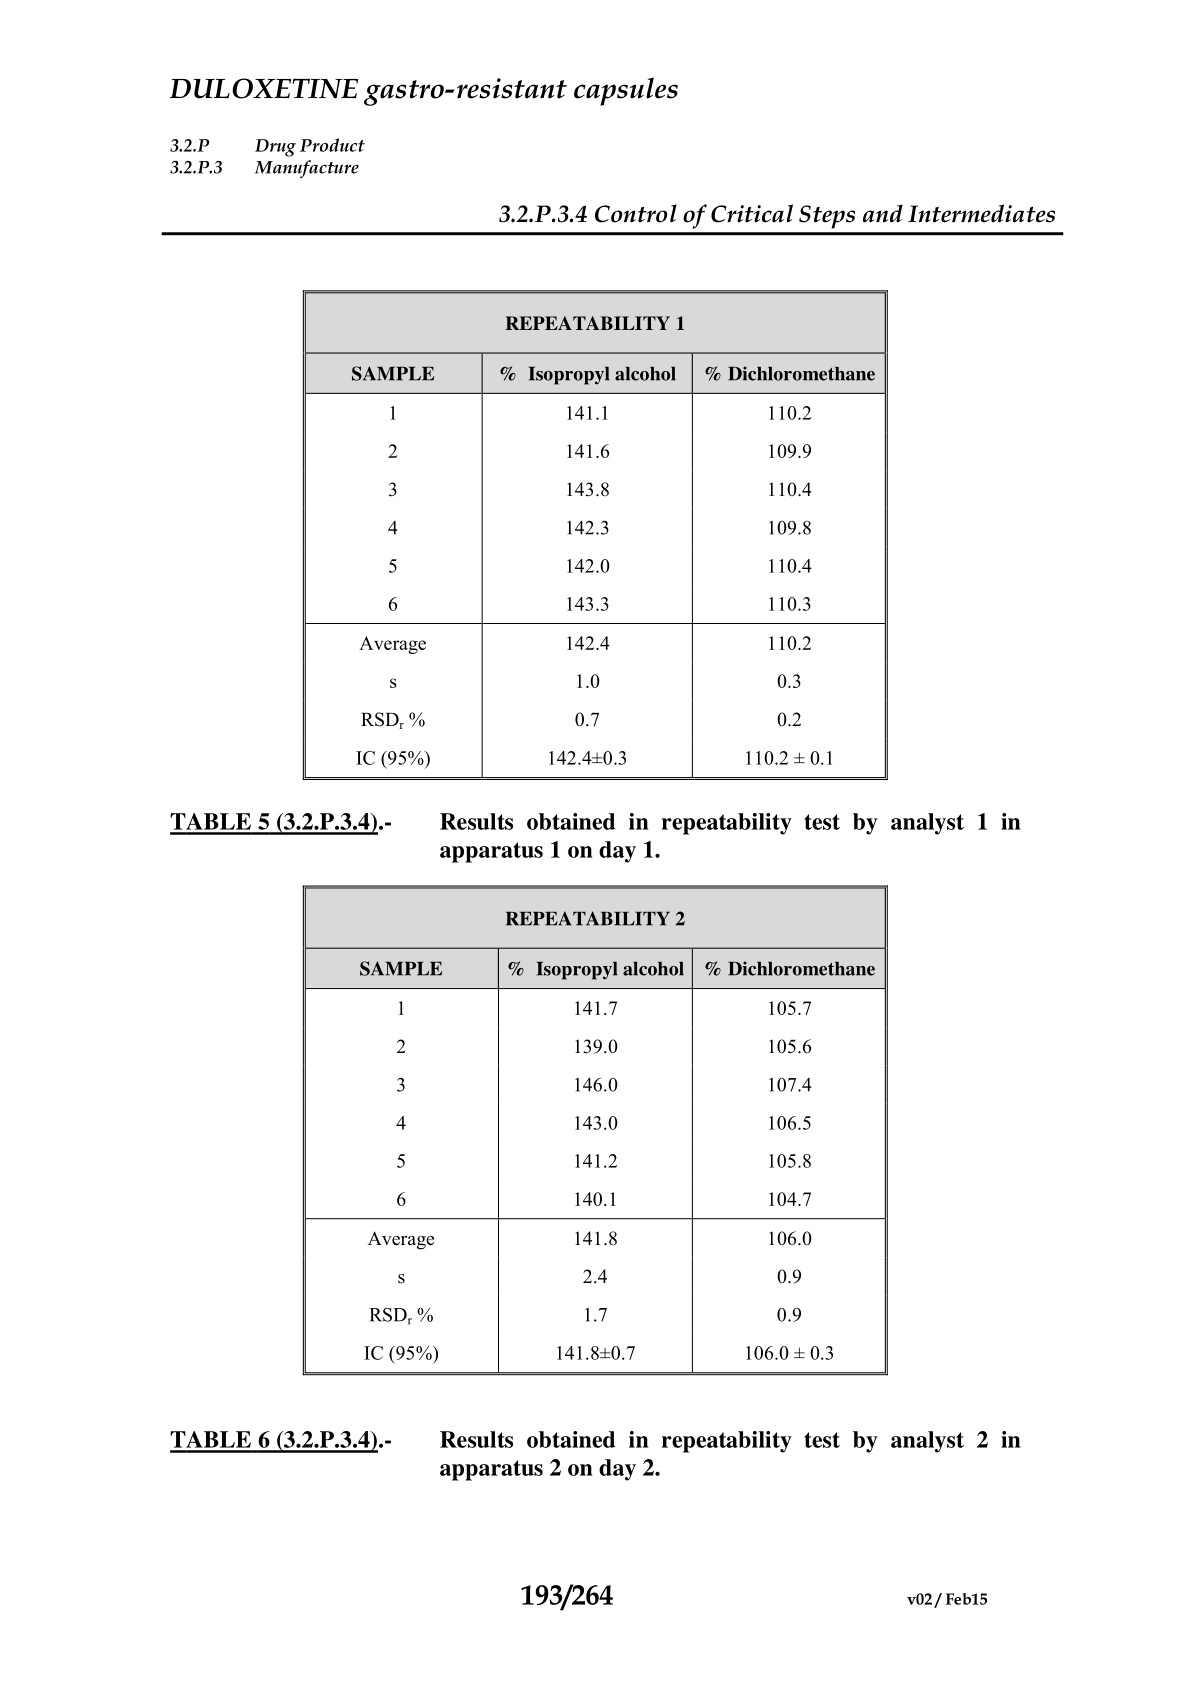merged_cells: (302, 289, 891, 781), (302, 884, 889, 1376)
